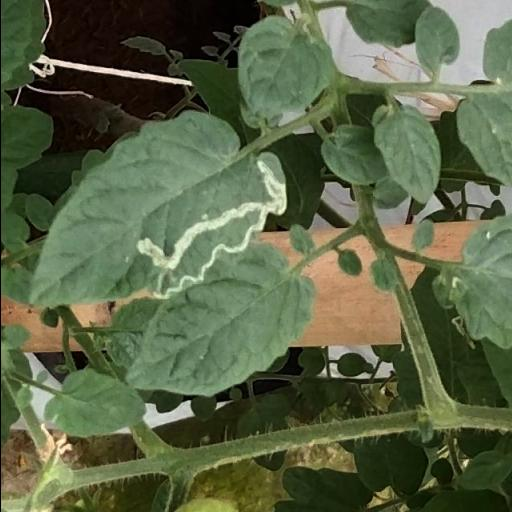disease_tomato: (24, 108, 290, 312)
